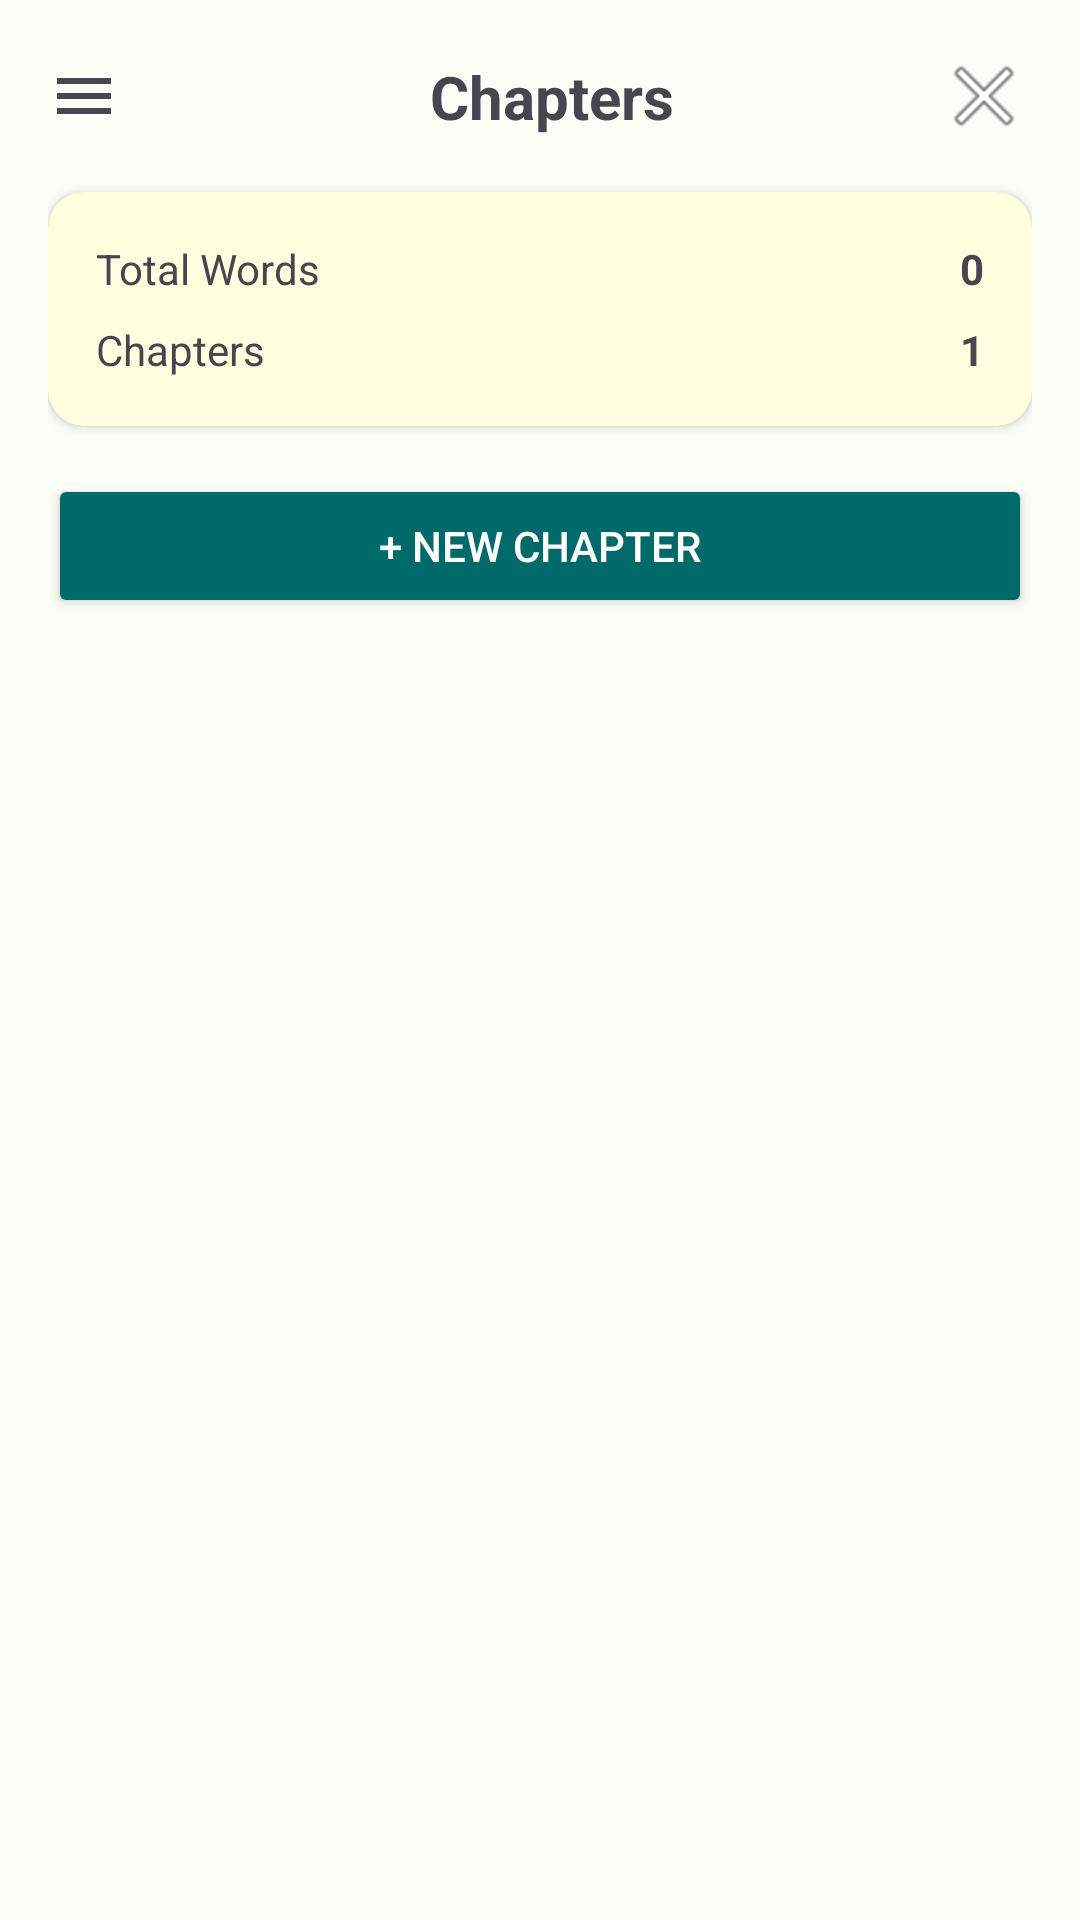

Screen size 1080px×1920px. Icon name, then its box in pixels as (x1, y1, x2, y2):
close clear cancel: (954, 66, 1014, 126)
menu: (57, 78, 111, 114)
